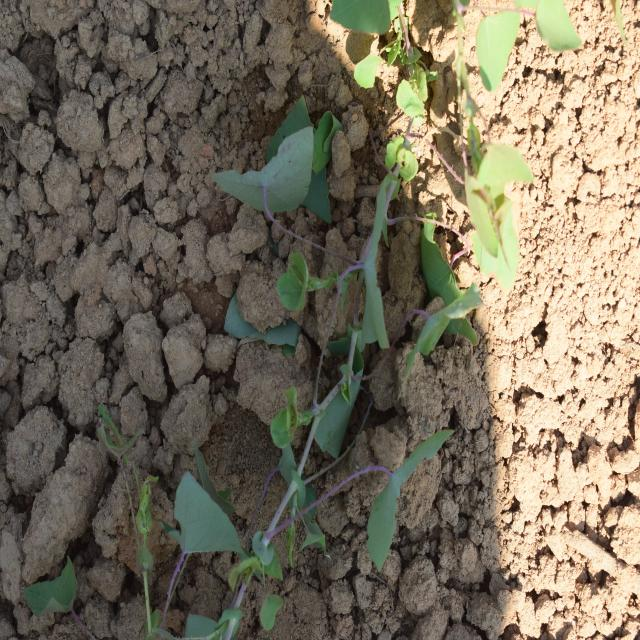Asiatic_Smartweed: (405, 122, 538, 338), (219, 95, 347, 243), (348, 386, 452, 560)
